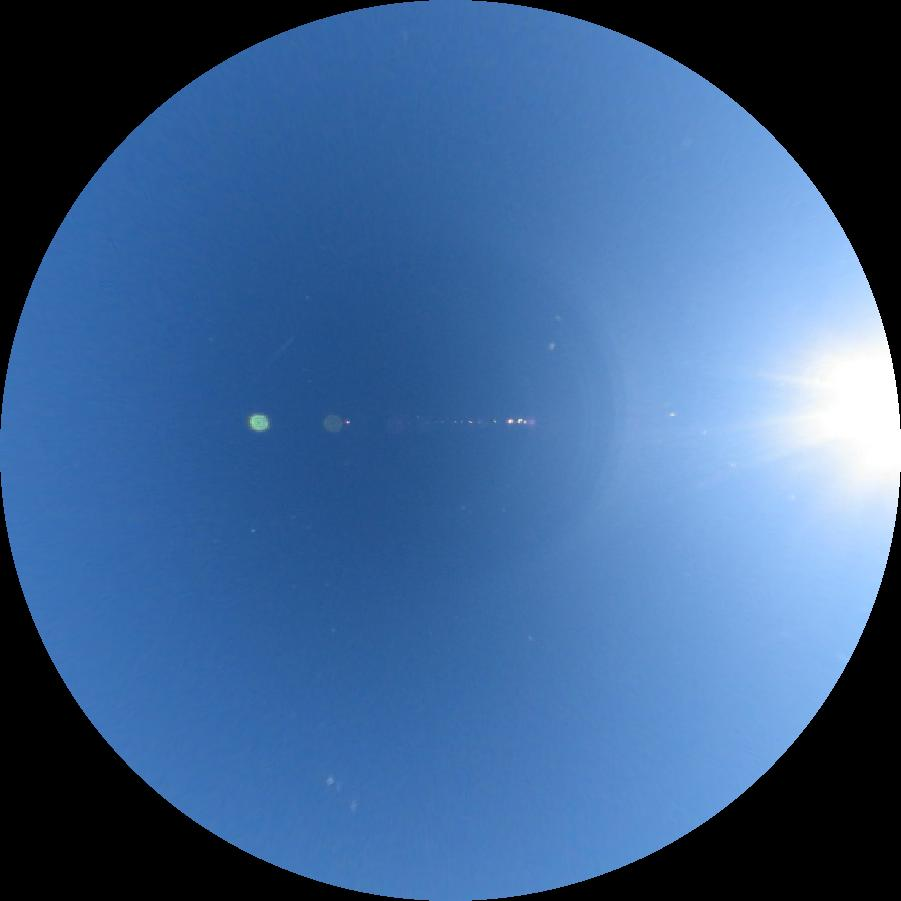contrail young: (266, 336, 294, 370)
sun: (826, 344, 900, 499)
